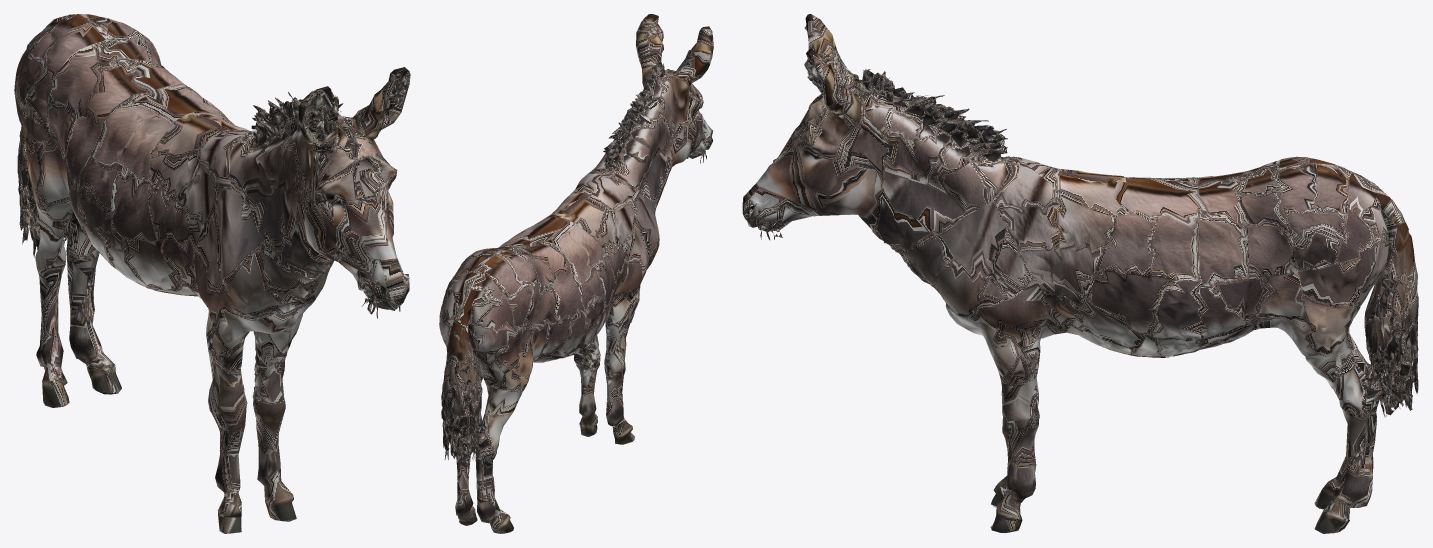
Rendered from mule.glb.
The picture shows the model from 3 angles, left to right: view 1: azimuth 30°, elevation 25°; view 2: azimuth 150°, elevation 25°; view 3: azimuth 270°, elevation 25°; orthographic projection. The views are drawn at different scales.
Size of the model in its own units: 0.4535 by 1.51 by 1.9.
1 material, 1 textured.
